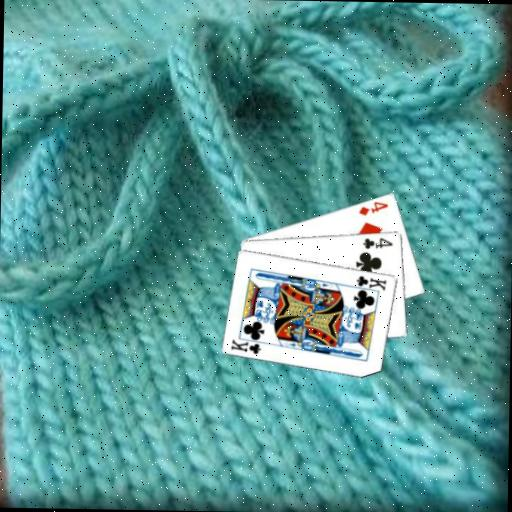4C: (361, 234, 395, 251)
4D: (356, 198, 390, 217)
KC: (228, 333, 267, 356), (349, 272, 388, 294)
